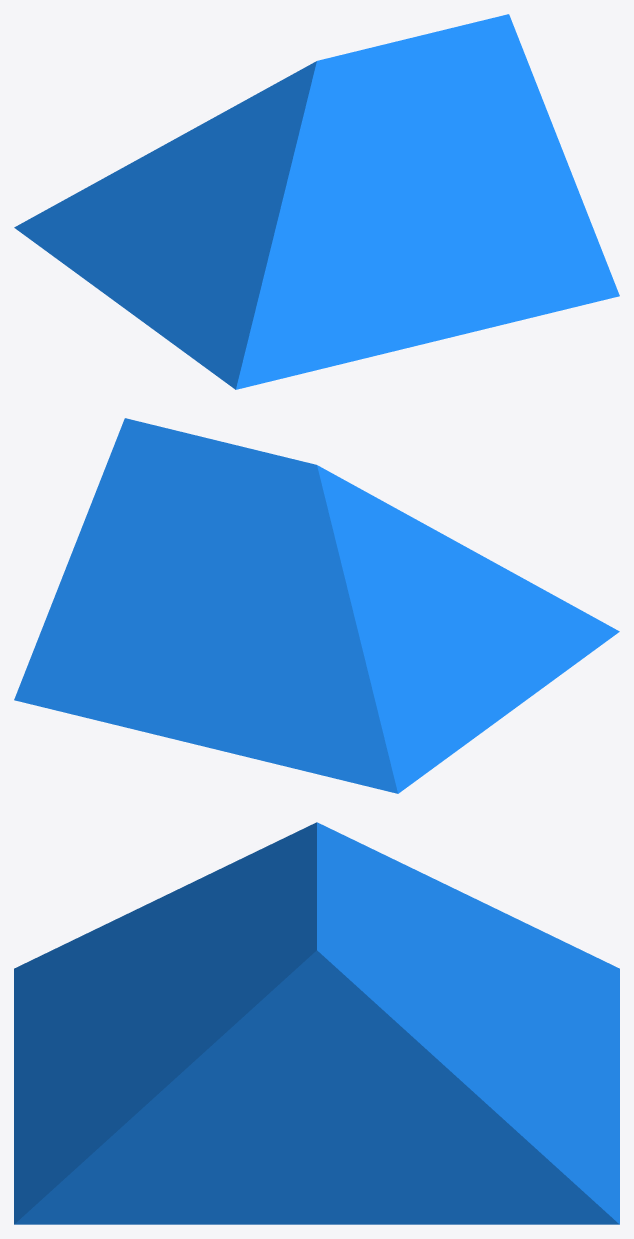
Rendered from Proto_Building_Block_Roof_End_01.fbx.
3 views of the same model, one above another, from view 1: azimuth 30°, elevation 25°; view 2: azimuth 150°, elevation 25°; view 3: azimuth 270°, elevation 25° (orthographic). The views are drawn at different scales.
Visible parts, largest first — view 1: Proto_Building_Block_Roof_End_01; view 2: Proto_Building_Block_Roof_End_01; view 3: Proto_Building_Block_Roof_End_01.
Part boxes in pixels (x1=…): Proto_Building_Block_Roof_End_01: x1=14, y1=14, x2=619, y2=389; Proto_Building_Block_Roof_End_01: x1=14, y1=418, x2=619, y2=793; Proto_Building_Block_Roof_End_01: x1=14, y1=822, x2=619, y2=1224.
Bounding box in the file's own units: 2 × 1 × 2.
